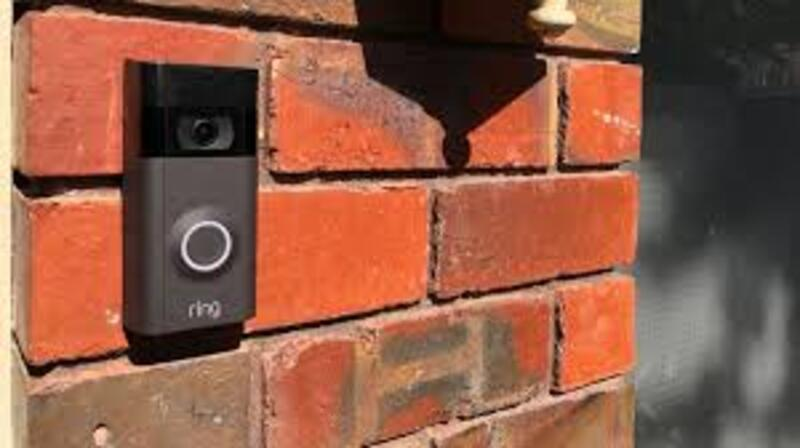doorbell: (120, 50, 257, 346)
